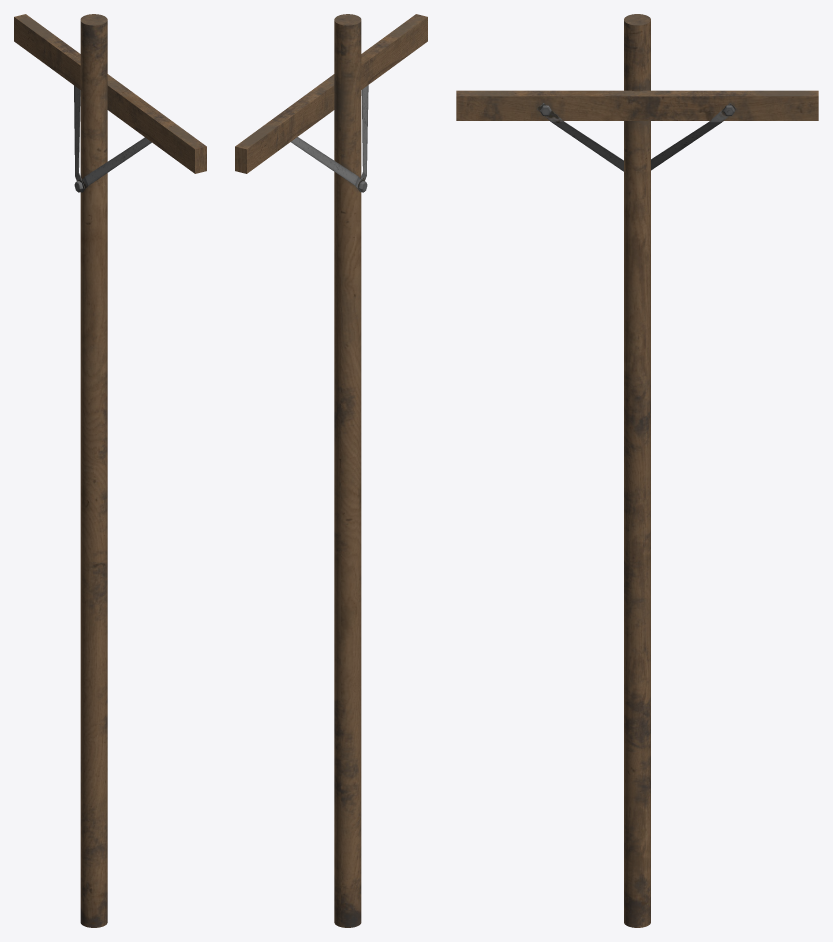
The model's file is electrical_pylon.glb.
3 views of the same model, side by side, from view 1: azimuth 30°, elevation 25°; view 2: azimuth 150°, elevation 25°; view 3: azimuth 270°, elevation 25° (orthographic).
Visible parts, largest first — view 1: Pylon_01; view 2: Pylon_01; view 3: Pylon_01.
Part boxes in pixels (x1=…): Pylon_01: x1=14, y1=14, x2=206, y2=927; Pylon_01: x1=235, y1=14, x2=427, y2=927; Pylon_01: x1=456, y1=14, x2=818, y2=927.
Size of the model in its own units: 0.5575 by 11 by 4.
1 material, 1 textured.
